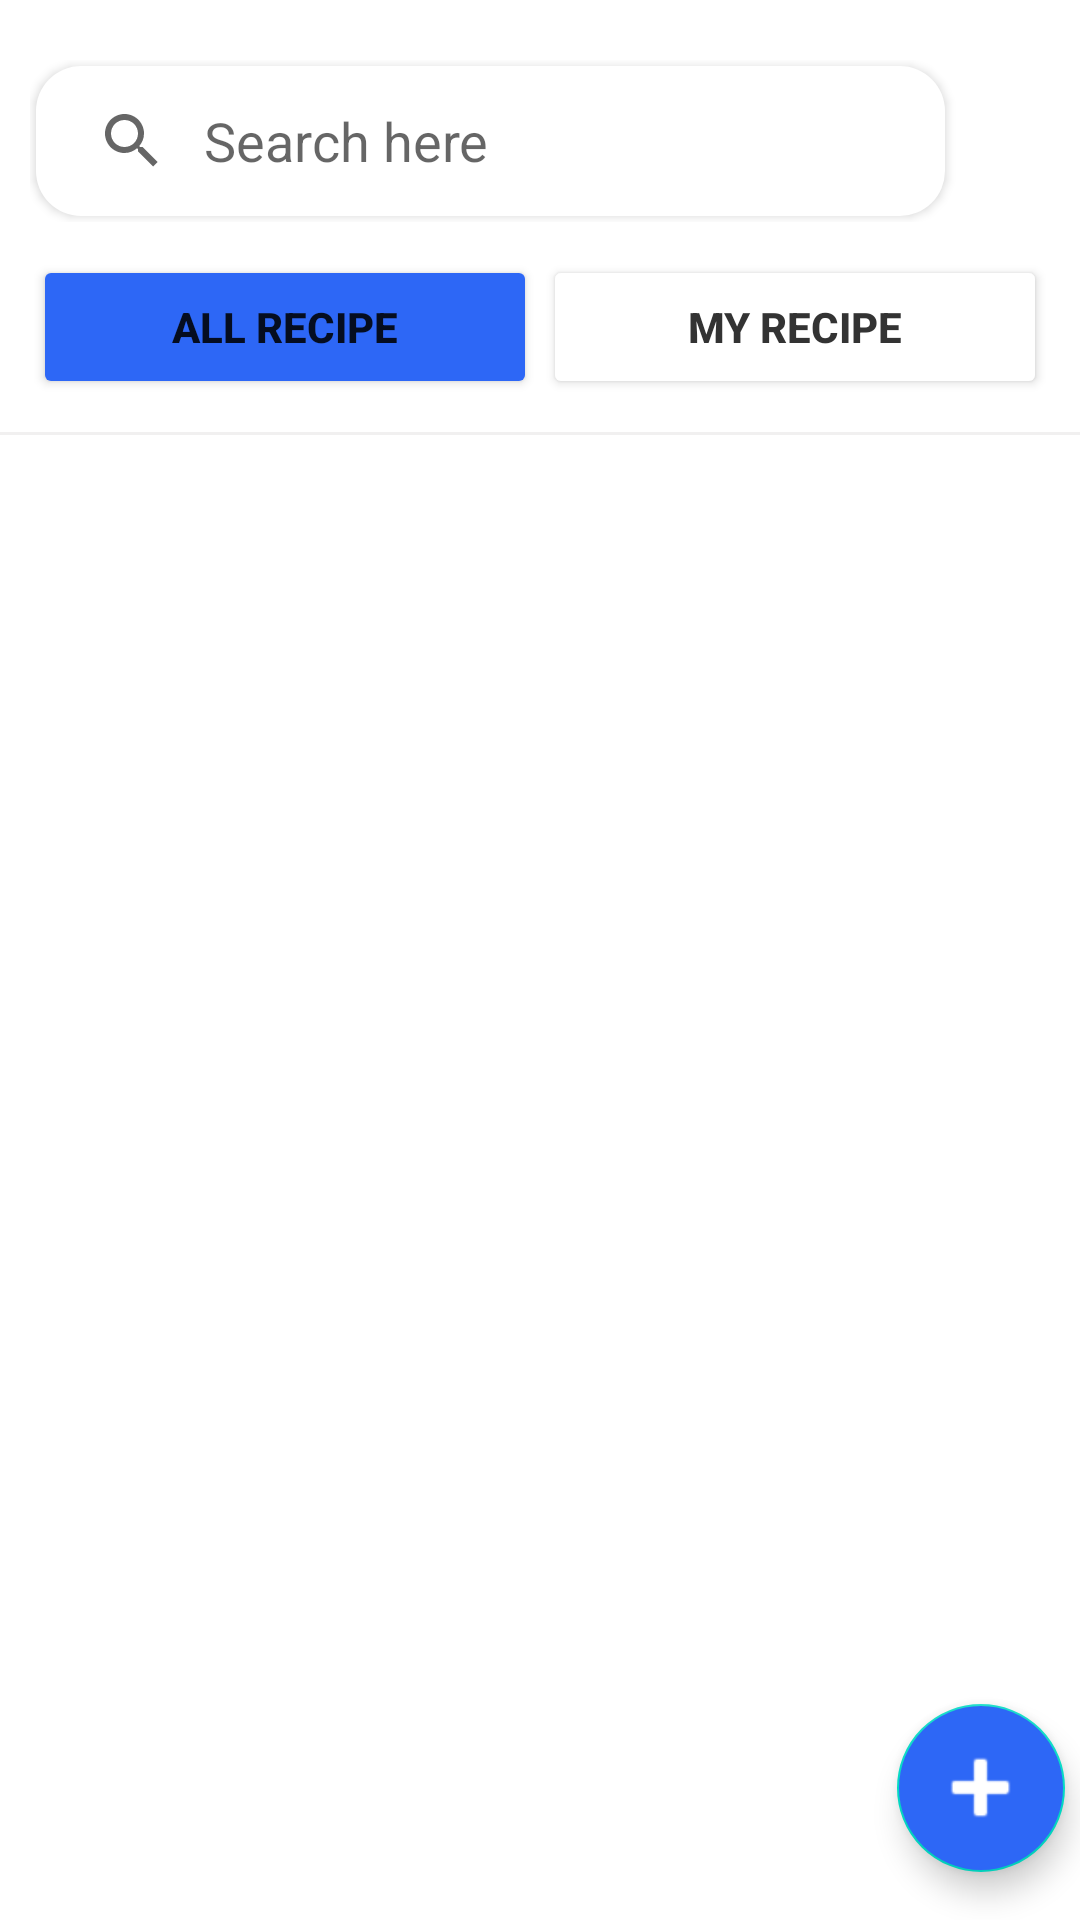

Named icons in this screenshot (1080×1920) and their centers, (x=x, y=y):
add: (x=981, y=1788)
